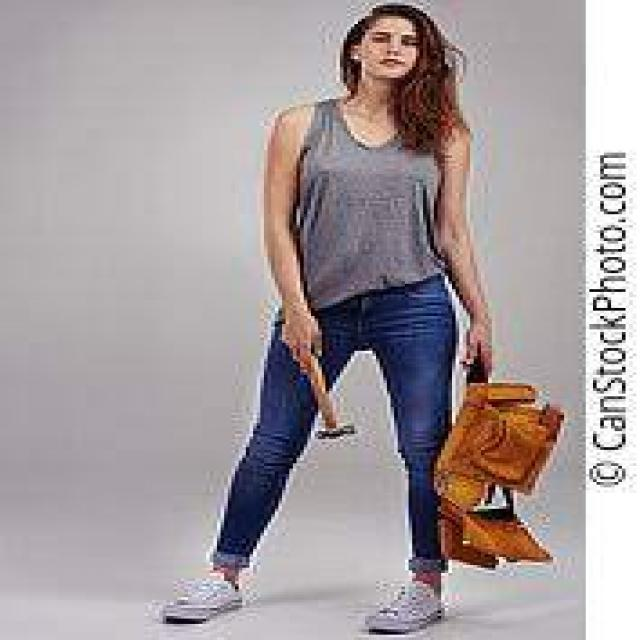hammer: (276, 327, 371, 447)
